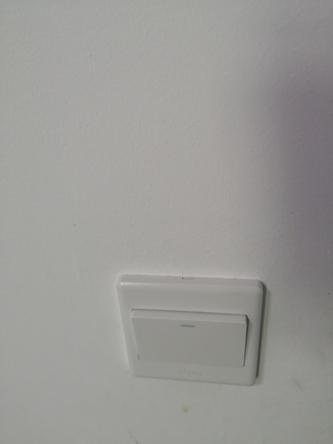switch: (126, 300, 254, 373)
